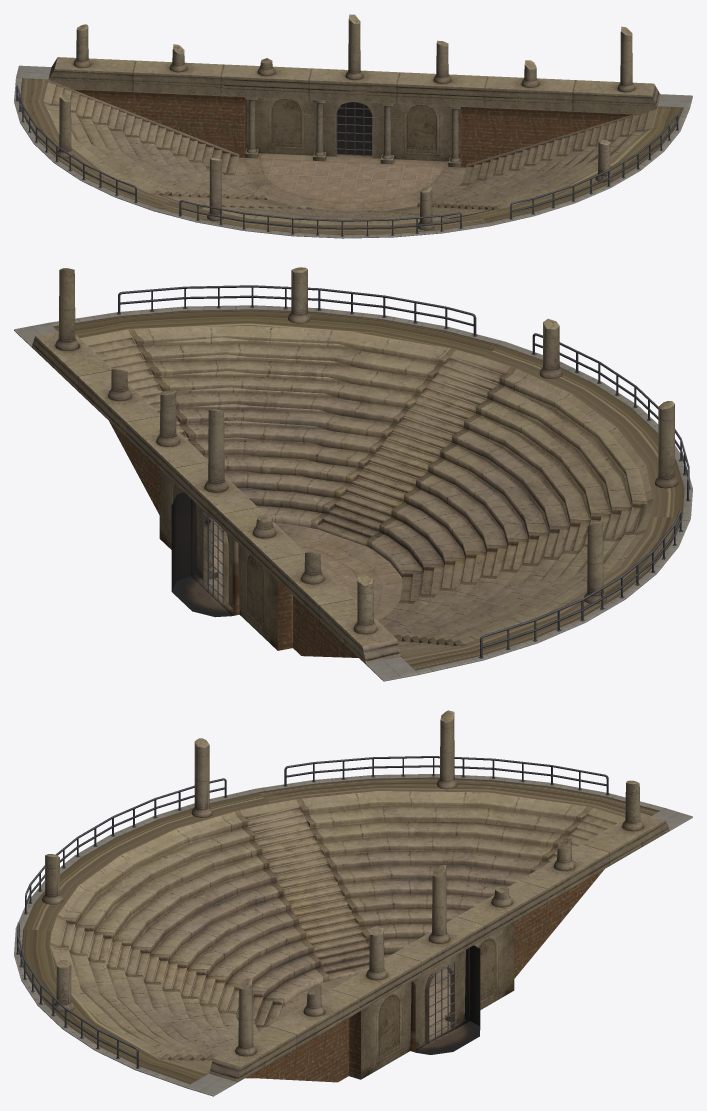
File: objects_un_t06circusplaza01.gltf
3 views of the same model, one above another, from view 1: azimuth 30°, elevation 25°; view 2: azimuth 150°, elevation 25°; view 3: azimuth 270°, elevation 25° (orthographic). The views are drawn at different scales.
Visible parts, largest first — view 1: um_objects_un_t06circusplaza01_model_lod0Shape:objects_un_t0 (×3), um_objects_un_t06circusplaza01_model_lod2Shape:objects_un_t0 (×3), um_objects_un_t06circusplaza01_model_lod1Shape:objects_un_t0 (×3); view 2: um_objects_un_t06circusplaza01_model_lod0Shape:objects_un_t0 (×3), um_objects_un_t06circusplaza01_model_lod2Shape:objects_un_t0 (×3), um_objects_un_t06circusplaza01_model_lod1Shape:objects_un_t0 (×3); view 3: um_objects_un_t06circusplaza01_model_lod0Shape:objects_un_t0 (×3), um_objects_un_t06circusplaza01_model_lod2Shape:objects_un_t0 (×3), um_objects_un_t06circusplaza01_model_lod1Shape:objects_un_t0 (×3).
Part boxes in pixels (bbox=[...]): um_objects_un_t06circusplaza01_model_lod0Shape:objects_un_t0 (×3): bbox=[14, 14, 692, 238]; um_objects_un_t06circusplaza01_model_lod2Shape:objects_un_t0 (×3): bbox=[14, 27, 692, 238]; um_objects_un_t06circusplaza01_model_lod1Shape:objects_un_t0 (×3): bbox=[16, 16, 678, 234]; um_objects_un_t06circusplaza01_model_lod0Shape:objects_un_t0 (×3): bbox=[14, 267, 692, 681]; um_objects_un_t06circusplaza01_model_lod2Shape:objects_un_t0 (×3): bbox=[14, 305, 692, 681]; um_objects_un_t06circusplaza01_model_lod1Shape:objects_un_t0 (×3): bbox=[32, 267, 689, 663]; um_objects_un_t06circusplaza01_model_lod0Shape:objects_un_t0 (×3): bbox=[15, 710, 692, 1096]; um_objects_un_t06circusplaza01_model_lod2Shape:objects_un_t0 (×3): bbox=[14, 716, 692, 1095]; um_objects_un_t06circusplaza01_model_lod1Shape:objects_un_t0 (×3): bbox=[17, 713, 669, 1082].
Bounding box in the file's own units: 36.75 × 9.05 × 32.8.
Materials: 3 (3 with a texture image).
